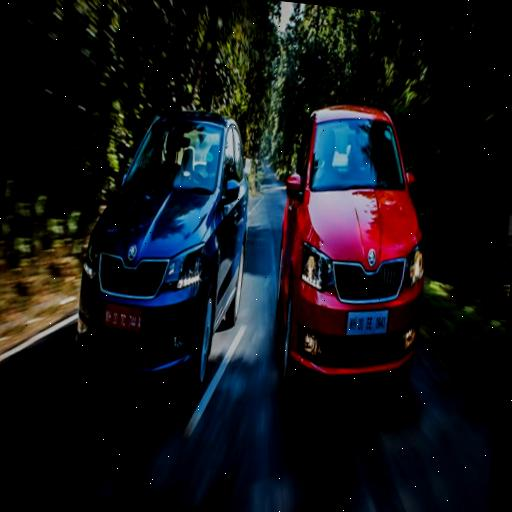number plate: (104, 301, 146, 334), (346, 312, 392, 338)
